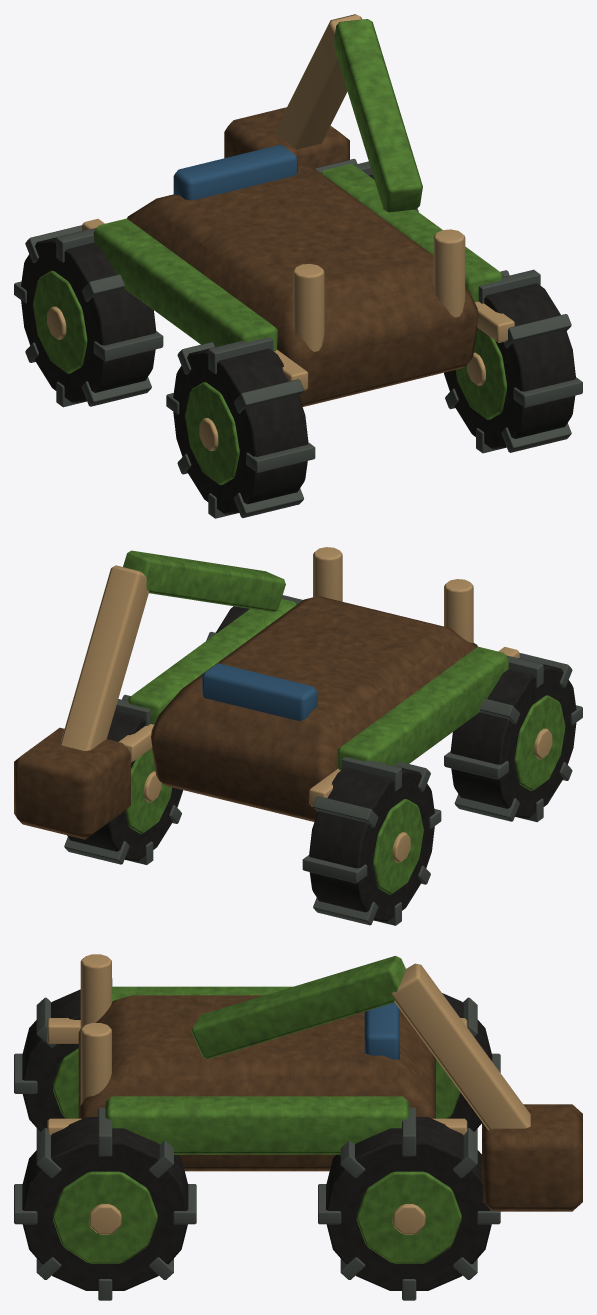
The model's file is vael_fouilleur.gltf.
3 renders of one model, top to bottom at view 1: azimuth 30°, elevation 25°; view 2: azimuth 150°, elevation 25°; view 3: azimuth 270°, elevation 25°, orthographic. The views are drawn at different scales.
Visible parts, largest first — view 1: Root.020_Geometry, Wheel_-0.6554999999999999_-0.001_Geometry, Wheel_-0.6554999999999999_0.001_Geometry, Arm_0.001_Geometry, Wheel_0.6554999999999999_-0.001_Geometry; view 2: Root.020_Geometry, Arm_0.001_Geometry, Wheel_-0.6554999999999999_0.001_Geometry, Wheel_-0.6554999999999999_-0.001_Geometry, Wheel_0.6554999999999999_0.001_Geometry; view 3: Root.020_Geometry, Arm_0.001_Geometry, Wheel_0.6554999999999999_-0.001_Geometry, Wheel_0.6554999999999999_0.001_Geometry, Wheel_-0.6554999999999999_-0.001_Geometry, Wheel_-0.6554999999999999_0.001_Geometry.
Part boxes in pixels (x1,y1,x2,y2): Root.020_Geometry: (82, 144, 514, 406); Wheel_-0.6554999999999999_-0.001_Geometry: (166, 337, 315, 518); Wheel_-0.6554999999999999_0.001_Geometry: (14, 225, 163, 407); Arm_0.001_Geometry: (224, 14, 422, 212); Wheel_0.6554999999999999_-0.001_Geometry: (444, 269, 582, 453); Root.020_Geometry: (119, 547, 519, 821); Arm_0.001_Geometry: (14, 550, 285, 839); Wheel_-0.6554999999999999_0.001_Geometry: (302, 757, 441, 925); Wheel_-0.6554999999999999_-0.001_Geometry: (444, 653, 582, 822); Wheel_0.6554999999999999_0.001_Geometry: (64, 694, 182, 864); Root.020_Geometry: (47, 954, 467, 1171); Arm_0.001_Geometry: (191, 956, 582, 1211); Wheel_0.6554999999999999_-0.001_Geometry: (14, 1107, 196, 1300); Wheel_0.6554999999999999_0.001_Geometry: (318, 1107, 500, 1300); Wheel_-0.6554999999999999_-0.001_Geometry: (14, 978, 112, 1134); Wheel_-0.6554999999999999_0.001_Geometry: (436, 993, 500, 1134).
Size of the model in its own units: 1.66 by 1.5 by 2.42.
6 materials, 3 textured.
